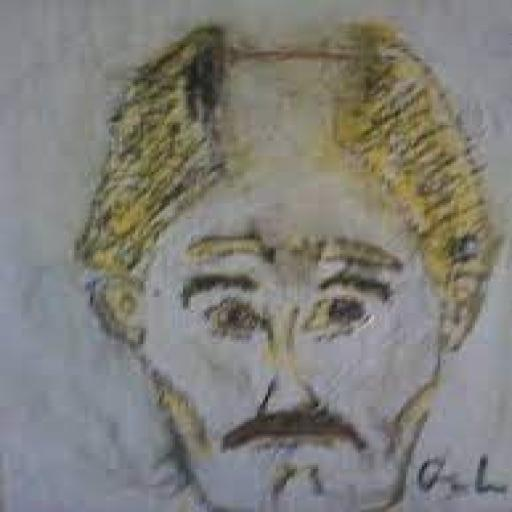person: (70, 15, 500, 510)
